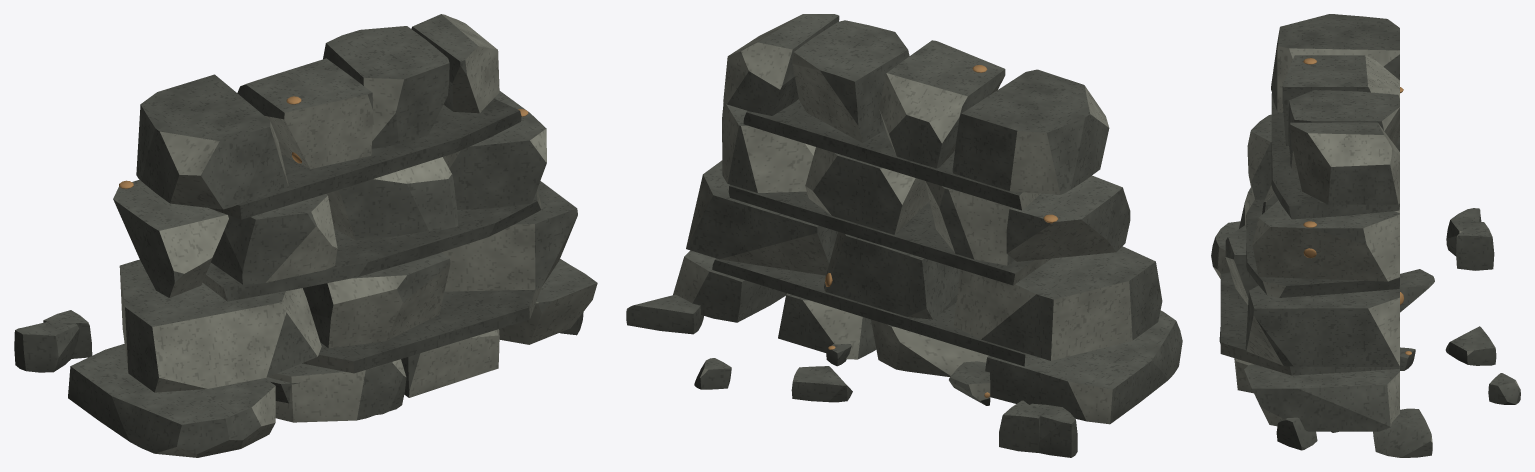
3 views of the same model, side by side, from view 1: azimuth 30°, elevation 25°; view 2: azimuth 150°, elevation 25°; view 3: azimuth 270°, elevation 25° (orthographic). The views are drawn at different scales.
Visible parts, largest first — view 1: weathered mineral, fresh chipped mineral; view 2: weathered mineral, fresh chipped mineral; view 3: weathered mineral, fresh chipped mineral.
Part boxes in pixels (x1,y1,x2,y2): weathered mineral: (14,14,597,454); fresh chipped mineral: (88,14,597,457); weathered mineral: (626,14,1182,457); fresh chipped mineral: (626,15,1132,424); weathered mineral: (1211,14,1520,457); fresh chipped mineral: (1213,46,1520,442).
Size of the model in its own units: 1.82 by 1.07 by 1.1.
Materials: 3 (2 with a texture image).
